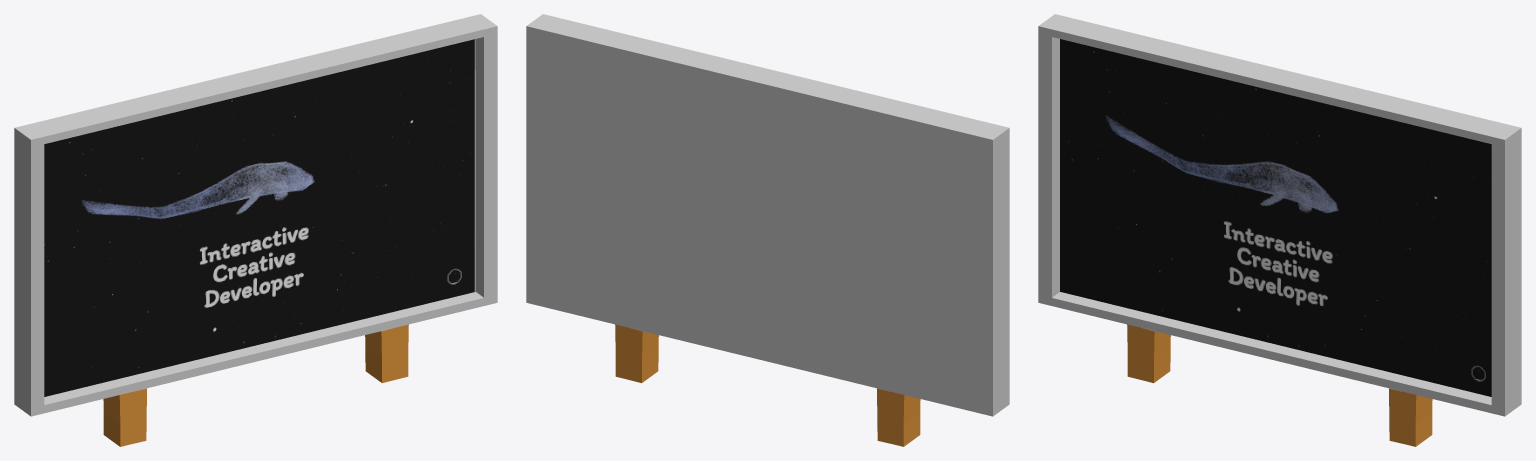
File: frame-pofo1.glb
The picture shows the model from 3 angles, left to right: view 1: azimuth 30°, elevation 25°; view 2: azimuth 150°, elevation 25°; view 3: azimuth 330°, elevation 25°; orthographic projection.
Parts seen in each view (by area): view 1: pofo1, Cube; view 2: Cube; view 3: pofo1, Cube.
Boxes of the visible parts, box(x1,y1,x2,y2) form: pofo1: box(44, 39, 475, 396); Cube: box(14, 14, 497, 446); Cube: box(526, 14, 1009, 446); pofo1: box(1060, 39, 1491, 396); Cube: box(1038, 14, 1521, 446).
Bounding box in the file's own units: 11.03 × 7.43 × 0.6791.
Materials: 3 (1 with a texture image).
